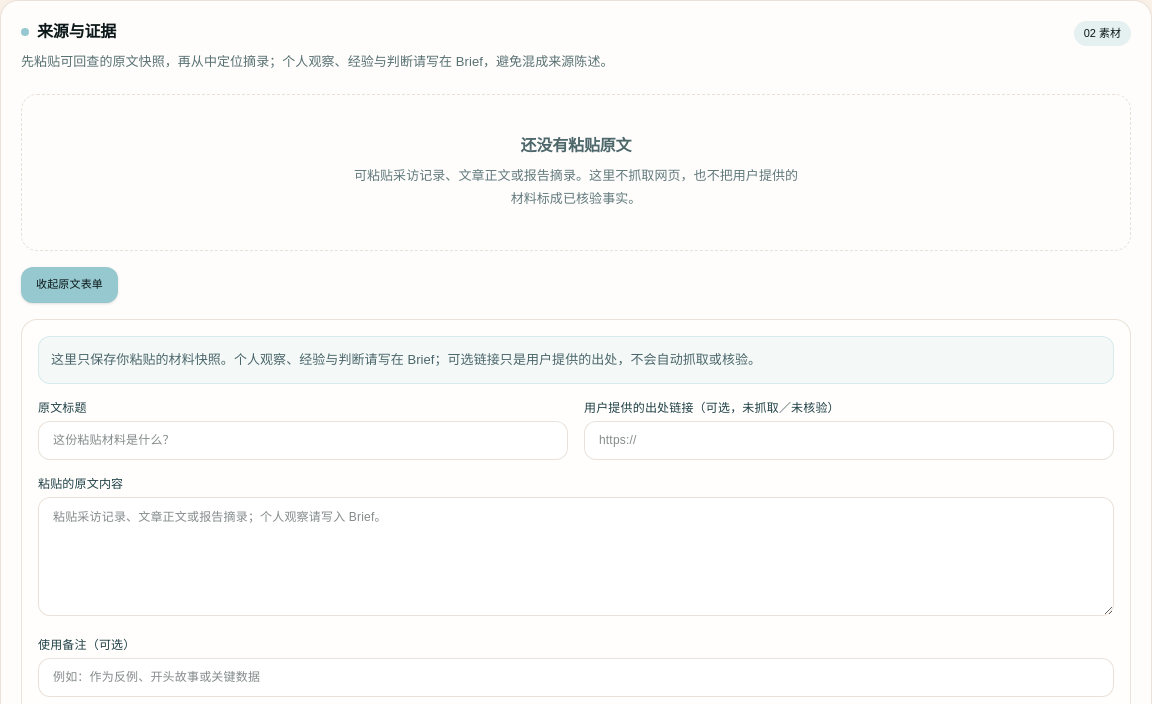
Scenario: ProjectSourcesPanel › 来源表单草稿报告 dirty，且拒绝非 http/https URL
Type "待保存材料" into the field labelled "原文标题" at (303, 440), box [38,421,568,460]
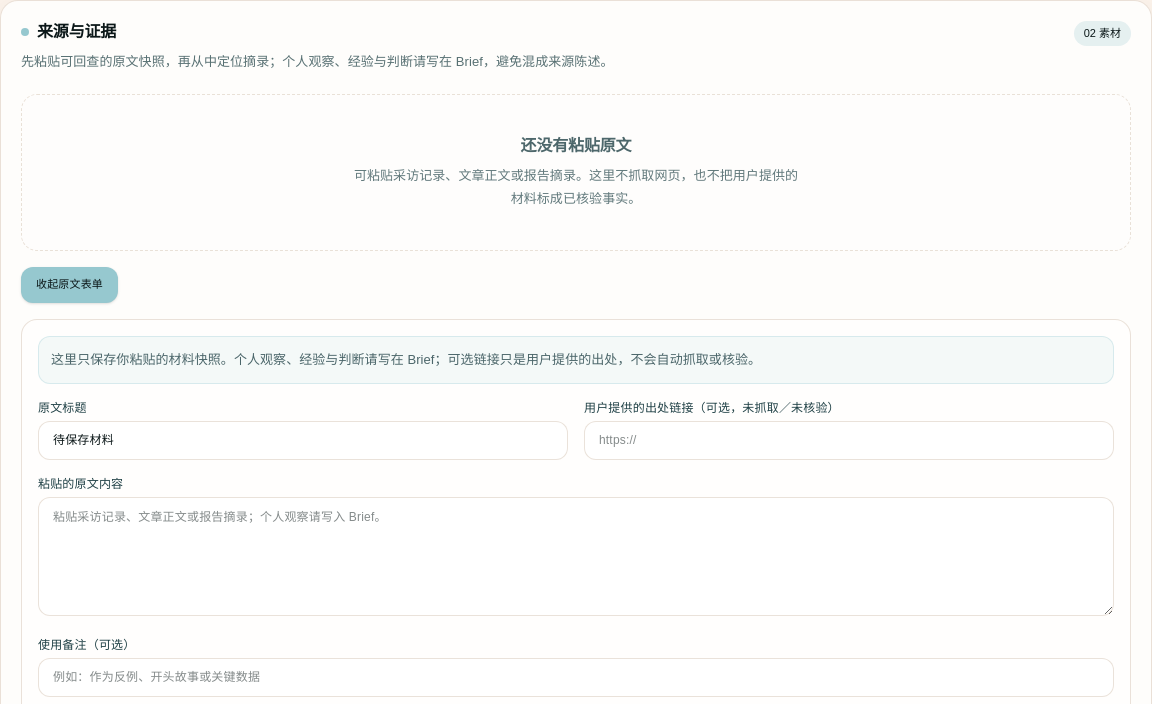
Type "原始材料" into the text box labelled "粘贴的原文内容" at (576, 556), box [38,497,1114,616]
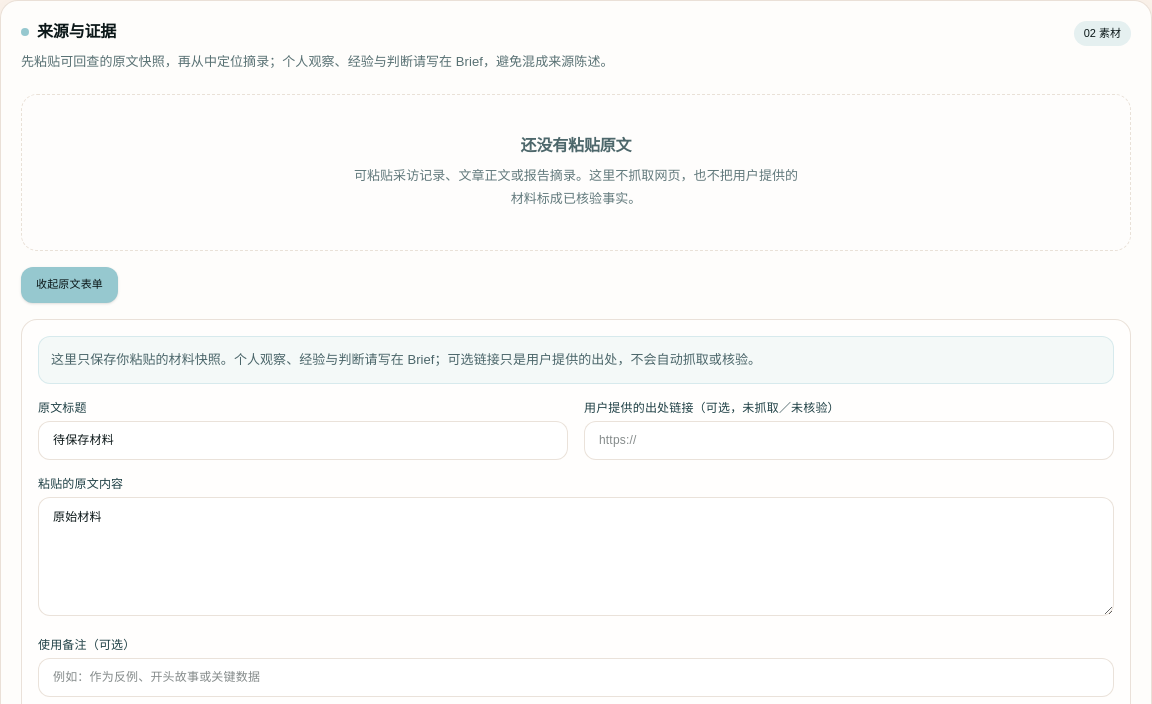
Type "javascript:alert(1)" into the field labelled "用户提供的出处链接（可选，未抓取／未核验）" at (849, 440), box [584,421,1114,460]
(page scrolled)
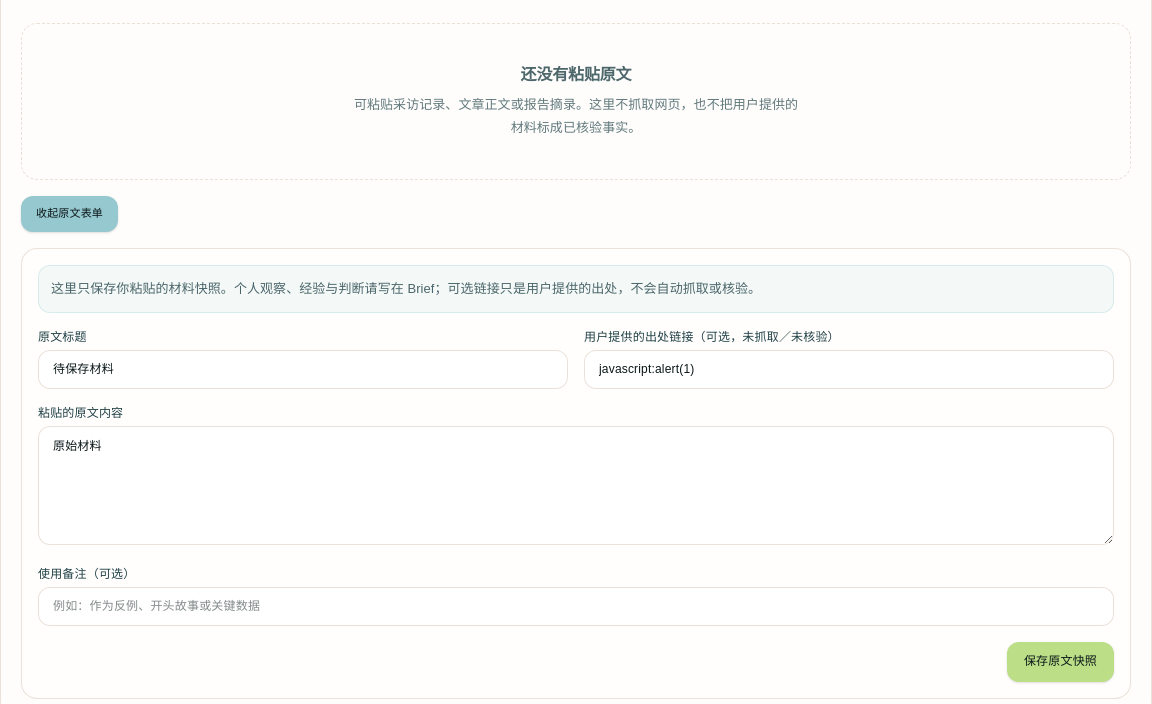
Click the button "保存原文快照" at (1060, 662), box [1007,642,1114,682]
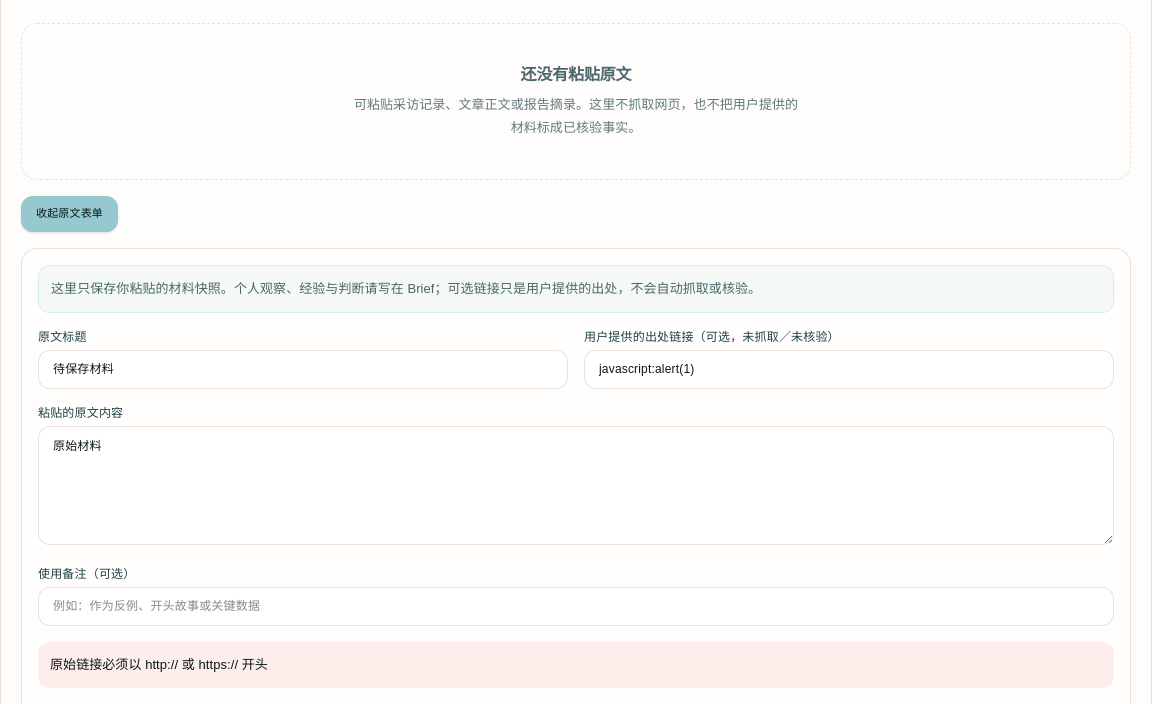
Now the message "原始链接必须以 http:// 或 https:// 开头" is shown, box [38,642,1114,688]
Now the message shows "http:// 或 https://", box [50,656,268,672]
